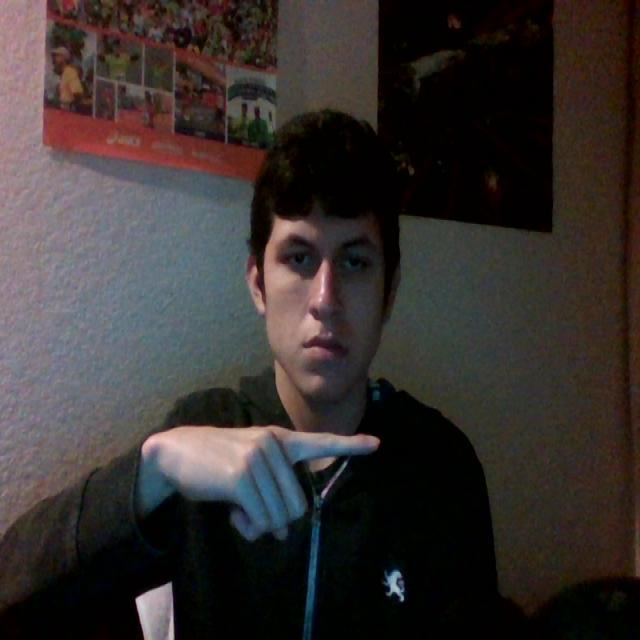P: (127, 385, 415, 603)
